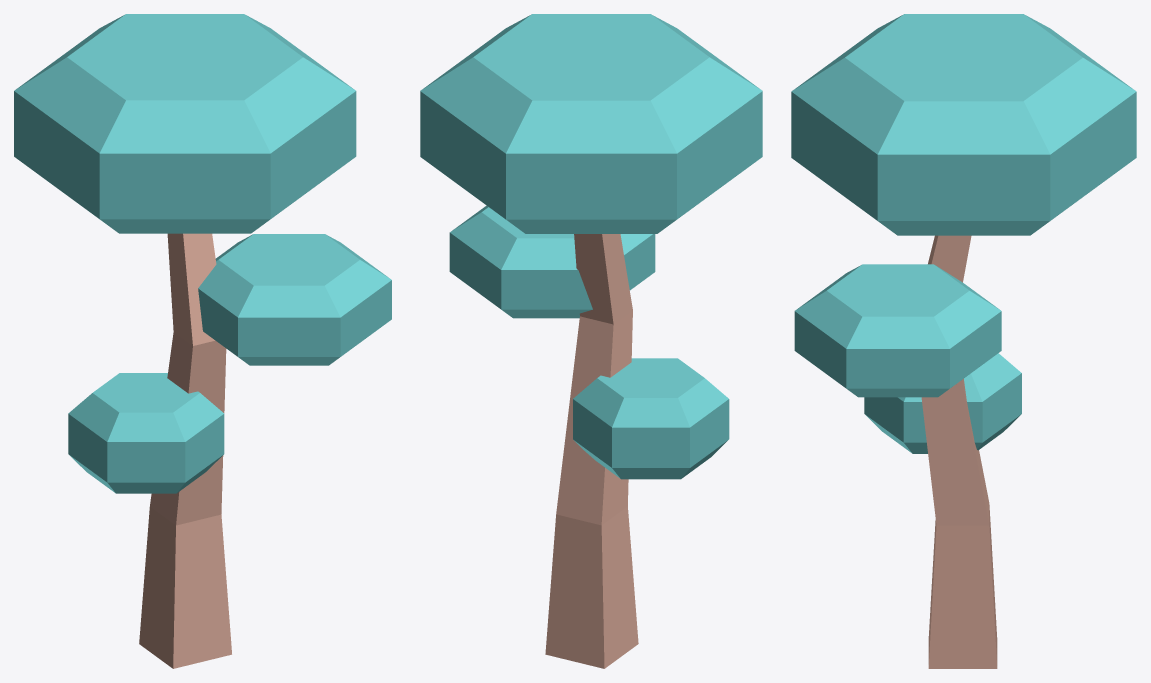
The model's file is tree_plateau_dark.gltf.
The picture shows the model from 3 angles, left to right: view 1: azimuth 30°, elevation 25°; view 2: azimuth 150°, elevation 25°; view 3: azimuth 270°, elevation 25°; orthographic projection.
Parts seen in each view (by area): view 1: tree_plateau_dark; view 2: tree_plateau_dark; view 3: tree_plateau_dark.
Part boxes in pixels (x1,y1,x2,y2): tree_plateau_dark: (14, 14, 391, 668); tree_plateau_dark: (420, 14, 762, 668); tree_plateau_dark: (791, 14, 1136, 668).
Size of the model in its own units: 0.6117 by 1.25 by 0.6549.
